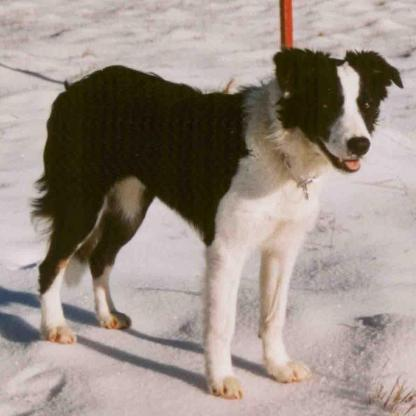Border_collie: (26, 43, 403, 398)
